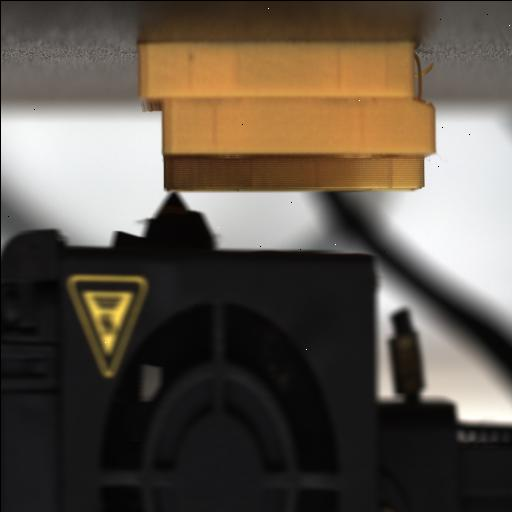layer_shift: (136, 83, 436, 117)
